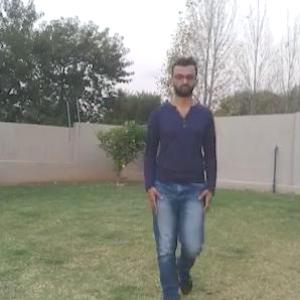follow: (145, 56, 216, 299)
